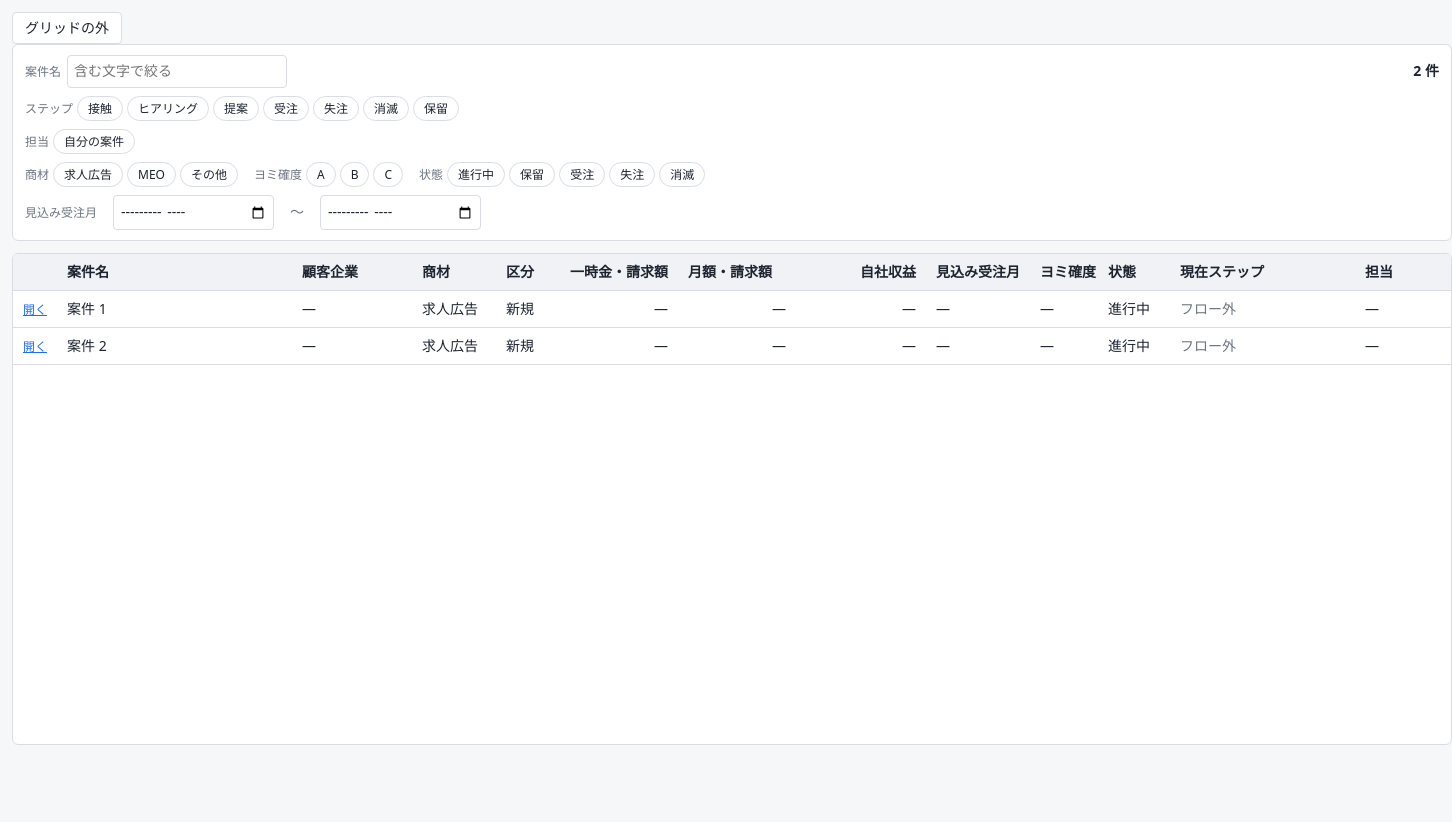
it: フォーカスの正直さ（決定R） › 外をクリックすると枠が消え、戻れば Enter で編集に入れる
Click the cell "案件 1": (87, 308) [67,298,107,318]
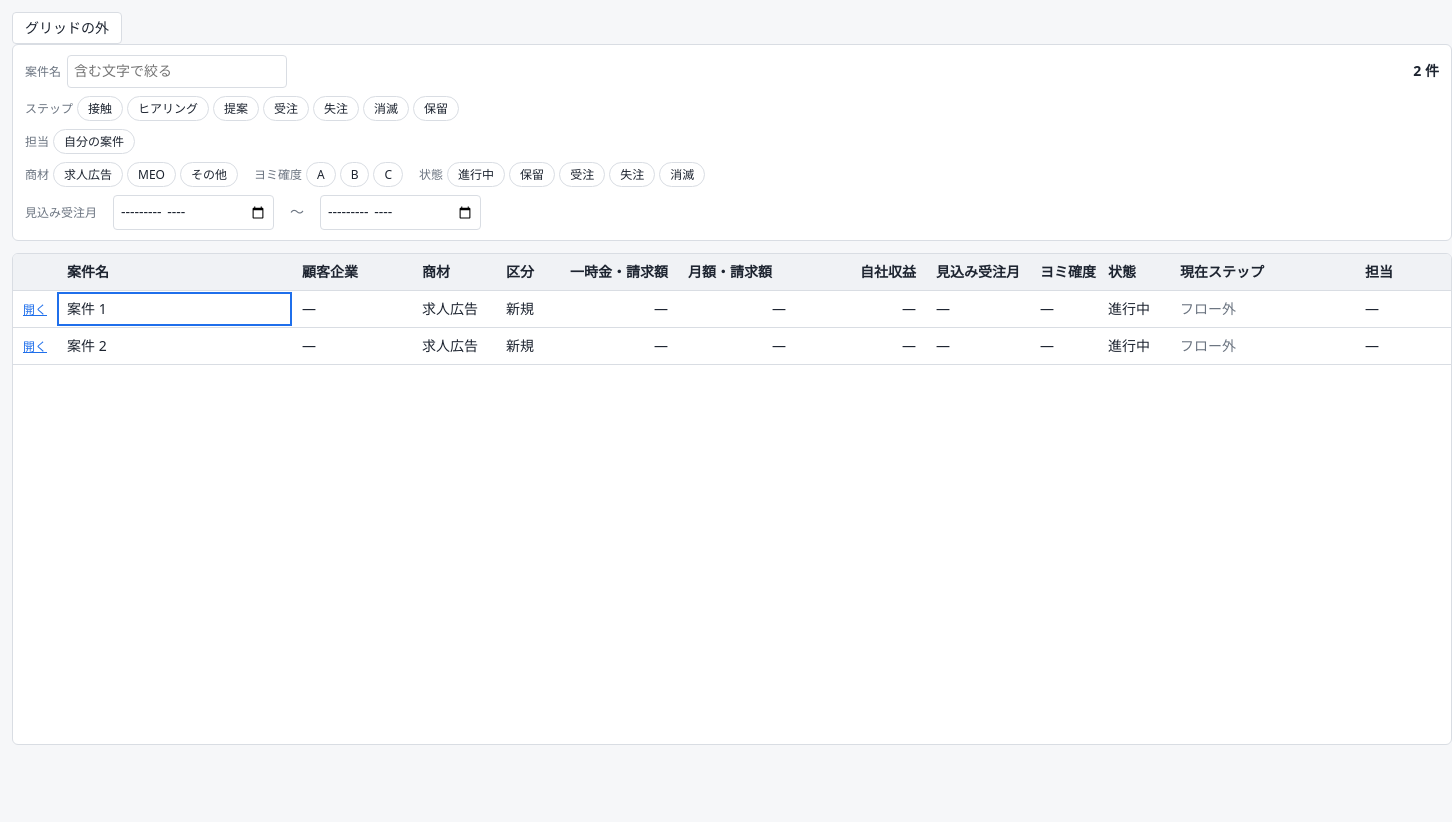
Expected: the cell with class "focused" is shown, [57,292,292,326]
Click the button "グリッドの外": (67, 28) [12,12,122,44]
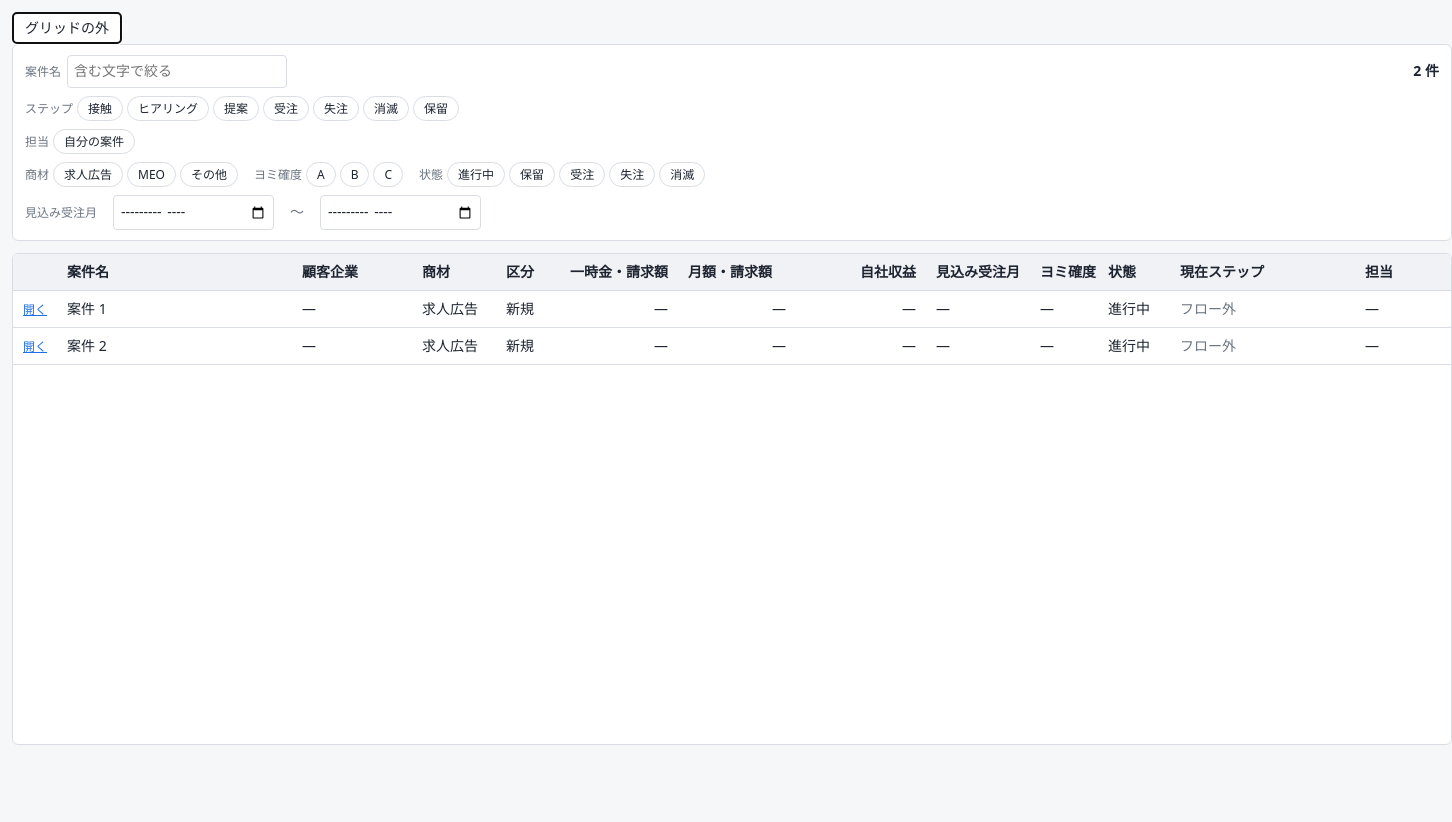
Click the cell with class "focused": (87, 308) [67,298,107,318]
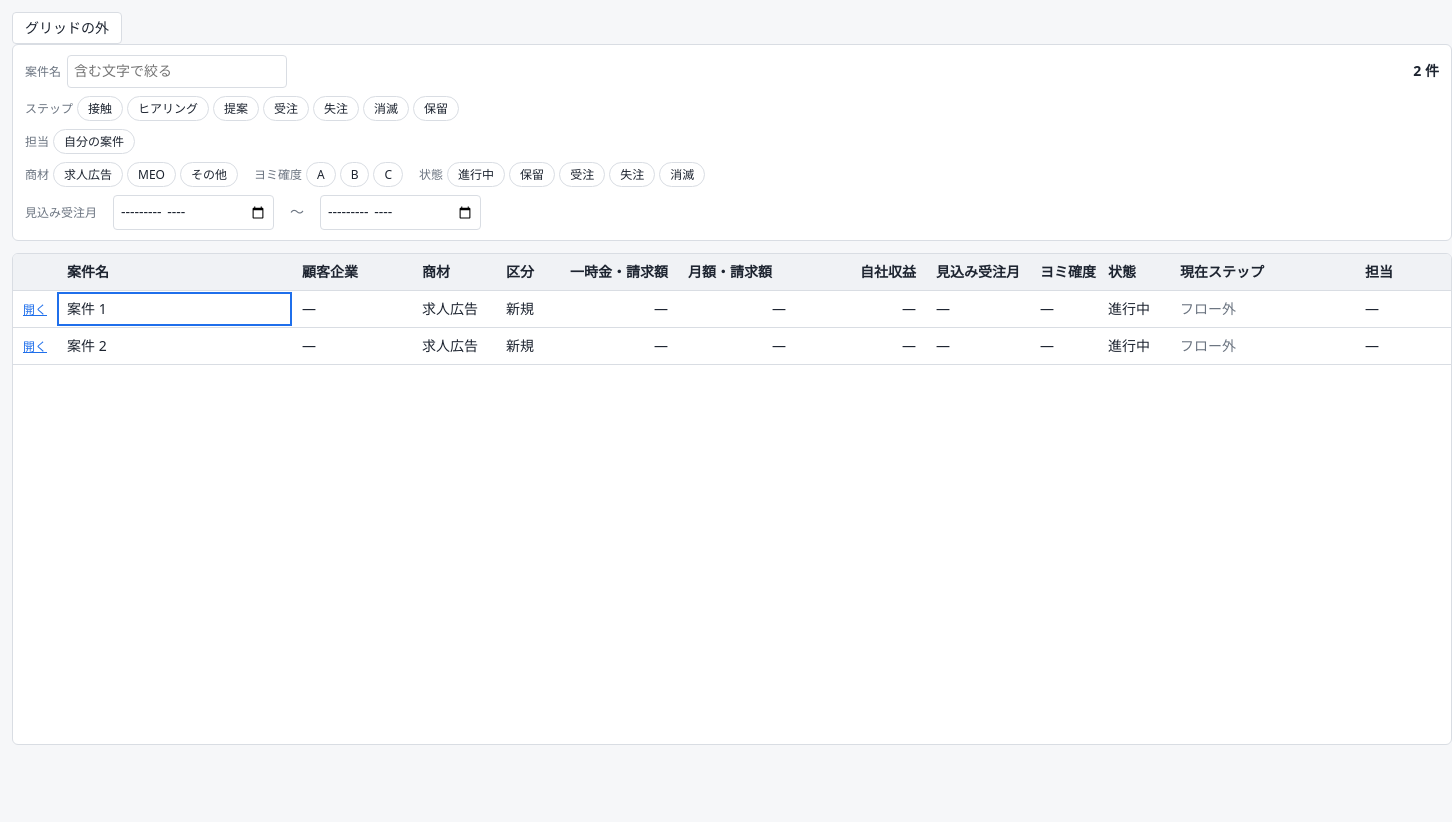
Press Enter
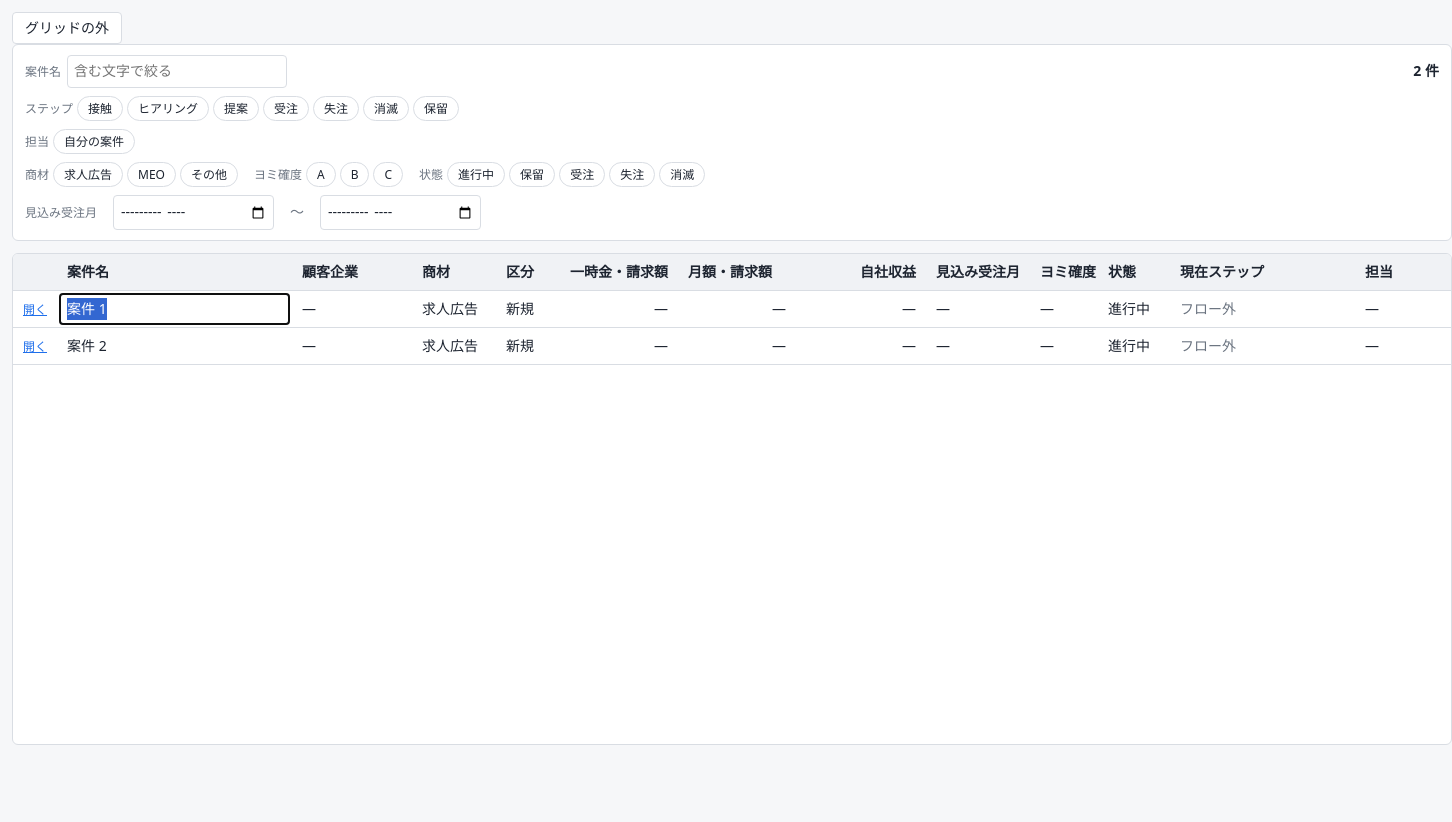
Expected: the field with class "cell-editor" is shown, [59,292,290,325]
Press Escape
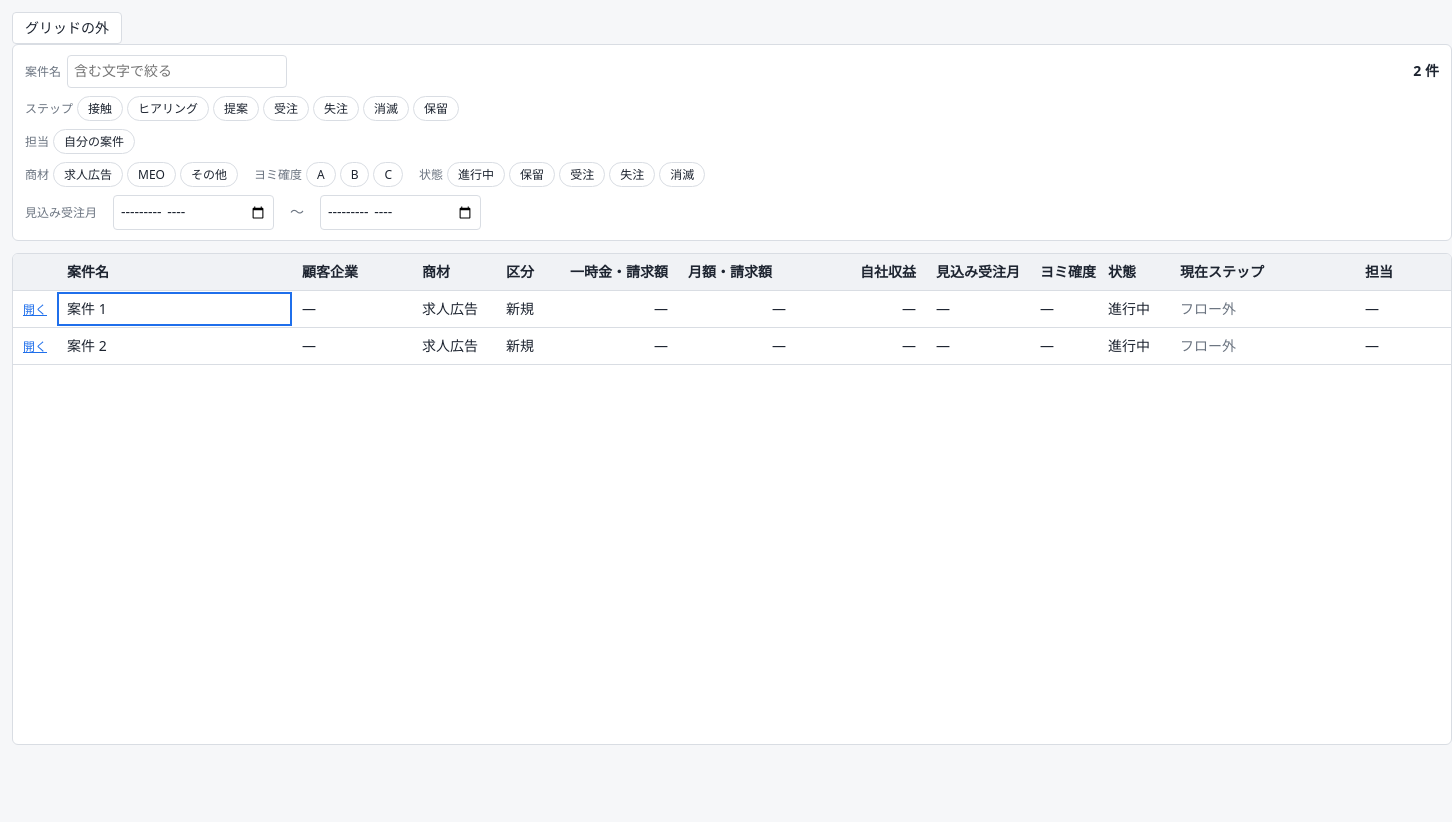
Expected: the field with class "cell-editor" is gone
